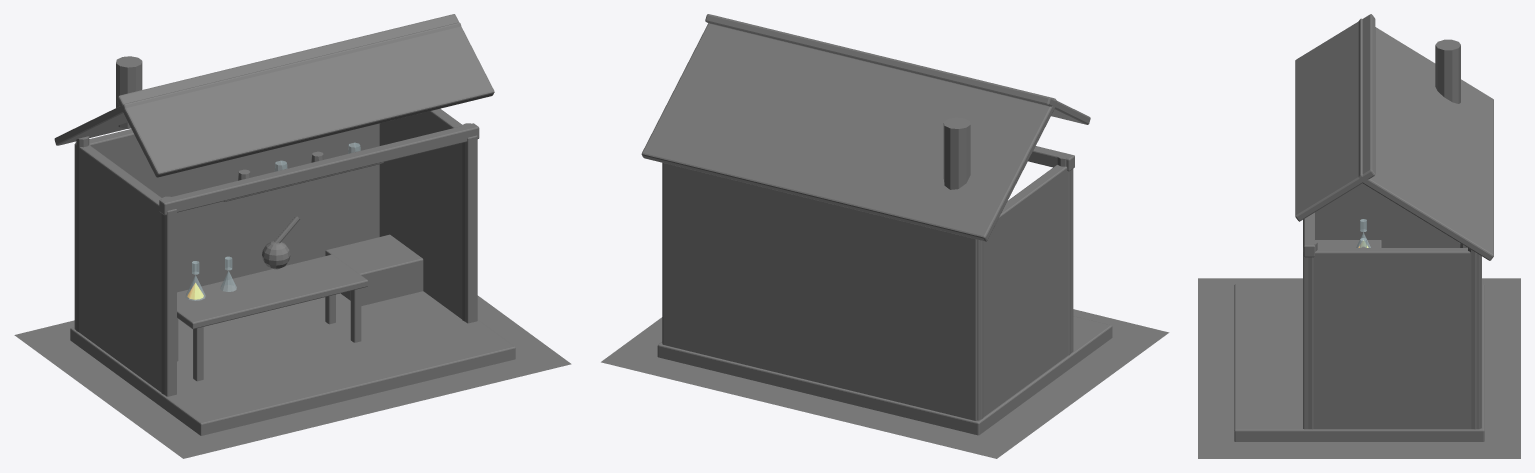
File: laboratory.glb
3 renders of one model, left to right at view 1: azimuth 30°, elevation 25°; view 2: azimuth 150°, elevation 25°; view 3: azimuth 270°, elevation 25°, orthographic. The views are drawn at different scales.
Visible parts, largest first — view 1: floor, roof, backWall, sideWall, ContactShadow, sideWall.001, table, beamTop, hearth, roof.001, chimney, cornerPost (+5 smaller); view 2: backWall, roof.001, sideWall, ContactShadow, floor, roof, chimney, cornerPost, beamTop; view 3: sideWall.001, roof.001, ContactShadow, floor, roof, sideWall, chimney, cornerPost.001, cornerPostB.001, beamTop, table, backWall.
Boxes of the visible parts, bbox=[...] form: floor: bbox=[70, 291, 515, 435]; roof: bbox=[117, 14, 494, 177]; backWall: bbox=[75, 123, 379, 292]; sideWall: bbox=[74, 143, 176, 396]; ContactShadow: bbox=[14, 295, 571, 458]; sideWall.001: bbox=[379, 108, 477, 323]; table: bbox=[177, 254, 367, 329]; beamTop: bbox=[159, 123, 479, 215]; hearth: bbox=[325, 234, 423, 305]; roof.001: bbox=[54, 22, 461, 145]; chimney: bbox=[116, 56, 142, 128]; cornerPost: bbox=[161, 196, 174, 394]; backWall: bbox=[662, 163, 977, 420]; roof.001: bbox=[641, 23, 1057, 241]; sideWall: bbox=[977, 164, 1073, 420]; ContactShadow: bbox=[601, 309, 1169, 458]; floor: bbox=[657, 316, 1112, 435]; roof: bbox=[705, 14, 1090, 124]; chimney: bbox=[943, 117, 970, 189]; cornerPost: bbox=[1057, 153, 1070, 355]; beamTop: bbox=[1028, 146, 1074, 171]; sideWall.001: bbox=[1303, 248, 1480, 429]; roof.001: bbox=[1358, 18, 1493, 260]; ContactShadow: bbox=[1198, 278, 1520, 458]; floor: bbox=[1234, 284, 1484, 441]; roof: bbox=[1295, 14, 1375, 221]; sideWall: bbox=[1303, 183, 1460, 248]; chimney: bbox=[1435, 39, 1460, 103]; cornerPost.001: bbox=[1305, 240, 1317, 429]; cornerPostB.001: bbox=[1468, 248, 1476, 429]; beamTop: bbox=[1303, 212, 1314, 257]; table: bbox=[1315, 240, 1381, 247]; backWall: bbox=[1480, 256, 1481, 428].
Size of the model in its own units: 5.3 by 3.8 by 4.
14 materials, 11 textured.
